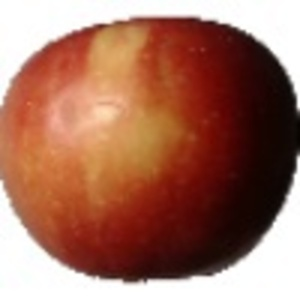maçã braeburn: (1, 13, 300, 284)
